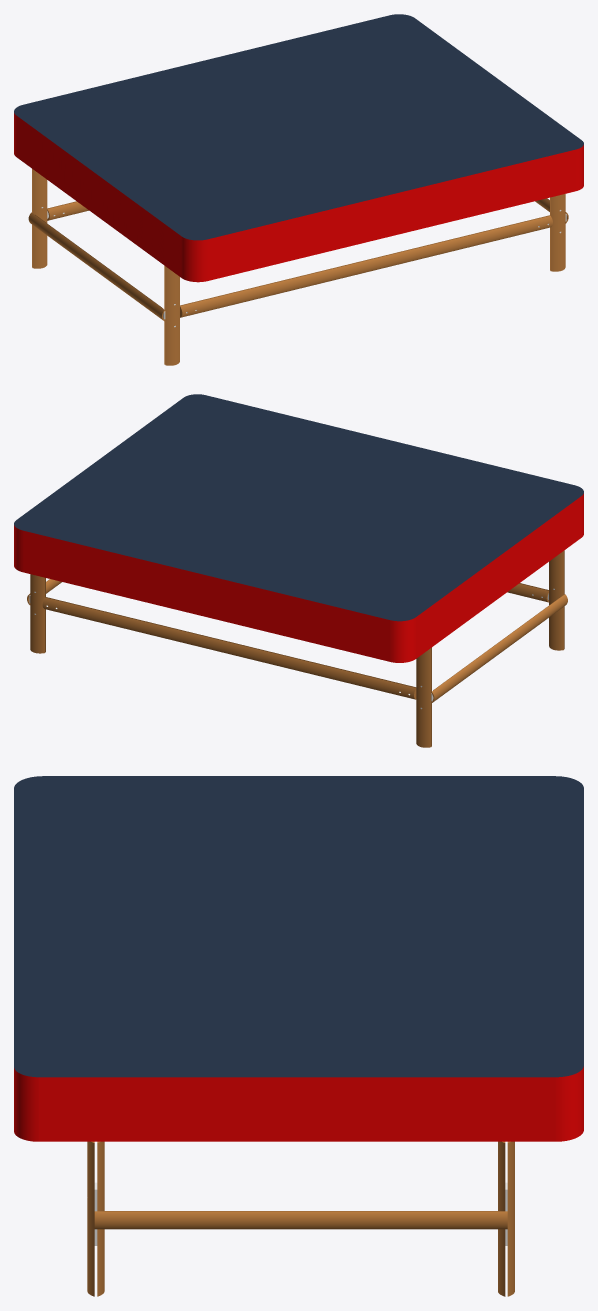
Rendered from kasur.fbx.
The picture shows the model from 3 angles, top to bottom: view 1: azimuth 30°, elevation 25°; view 2: azimuth 150°, elevation 25°; view 3: azimuth 270°, elevation 25°; orthographic projection. The views are drawn at different scales.
Parts seen in each view (by area): view 1: Group1, Group10, Group13, Group5, Group4; view 2: Group1, Group9, Group6, Group3, Group4; view 3: Group1, Group15, Group6, Group13, Group11, Group12.
Boxes of the visible parts, left/top/right/bottom form: Group1: left=14, top=14, right=583, bottom=282; Group10: left=165, top=261, right=367, bottom=365; Group13: left=365, top=194, right=565, bottom=272; Group5: left=32, top=169, right=88, bottom=268; Group4: left=28, top=212, right=164, bottom=321; Group1: left=14, top=394, right=583, bottom=662; Group9: left=228, top=643, right=431, bottom=747; Group6: left=30, top=574, right=230, bottom=654; Group3: left=507, top=551, right=563, bottom=650; Group4: left=431, top=594, right=567, bottom=702; Group1: left=14, top=776, right=583, bottom=1141; Group15: left=94, top=1211, right=507, bottom=1229; Group6: left=507, top=1141, right=514, bottom=1296; Group13: left=87, top=1141, right=94, bottom=1296; Group11: left=97, top=1141, right=104, bottom=1296; Group12: left=498, top=1141, right=505, bottom=1296.
Size of the model in its own units: 2.04 by 0.676 by 1.6.
